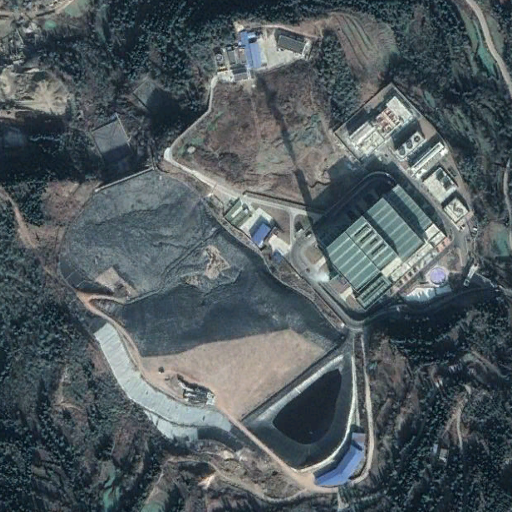lf: (57, 168, 342, 418)
